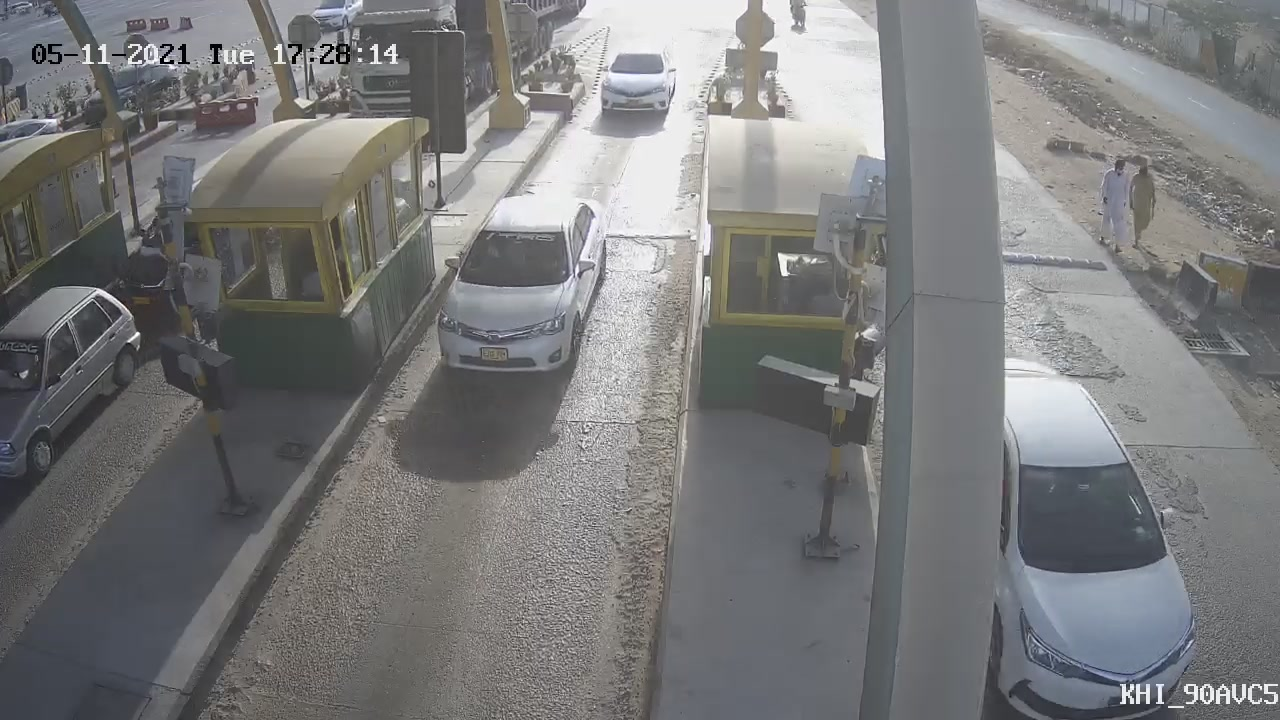F1: (408, 172, 624, 400)
